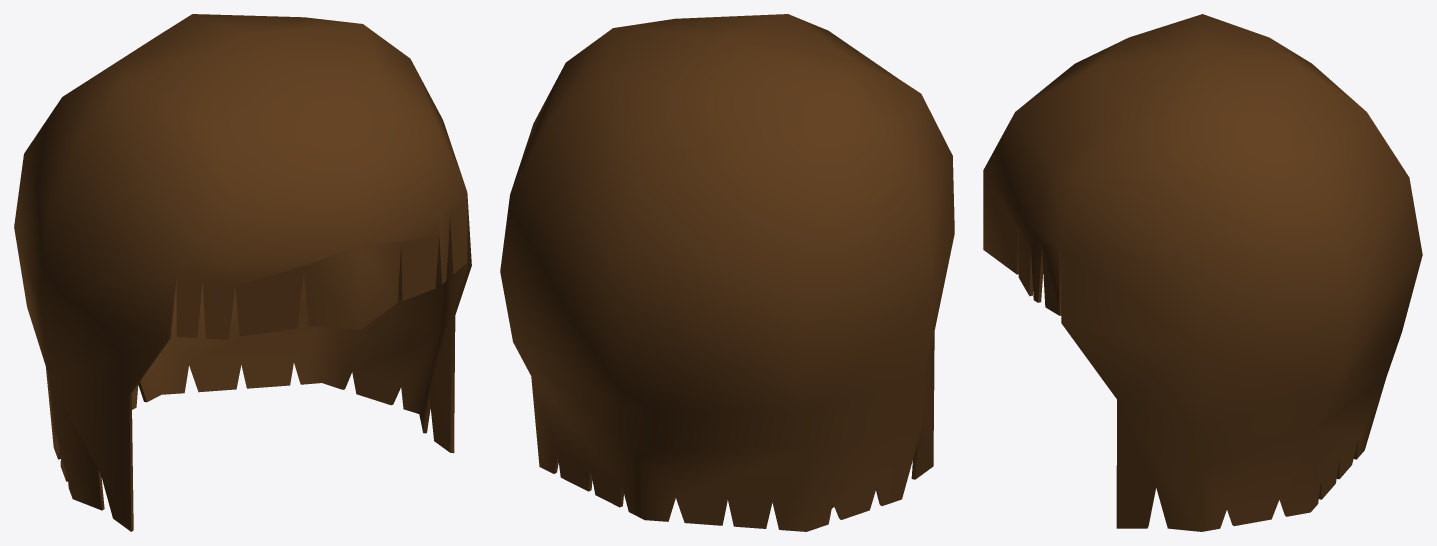
File: hair6.gltf
3 renders of one model, left to right at view 1: azimuth 30°, elevation 25°; view 2: azimuth 150°, elevation 25°; view 3: azimuth 270°, elevation 25°, orthographic. The views are drawn at different scales.
Visible parts, largest first — view 1: hair6; view 2: hair6; view 3: hair6.
Boxes of the visible parts, <box> form: hair6: <box>14,14,471,531</box>; hair6: <box>500,14,954,531</box>; hair6: <box>983,14,1422,531</box>.
Size of the model in its own units: 1.24 by 1.23 by 1.21.
